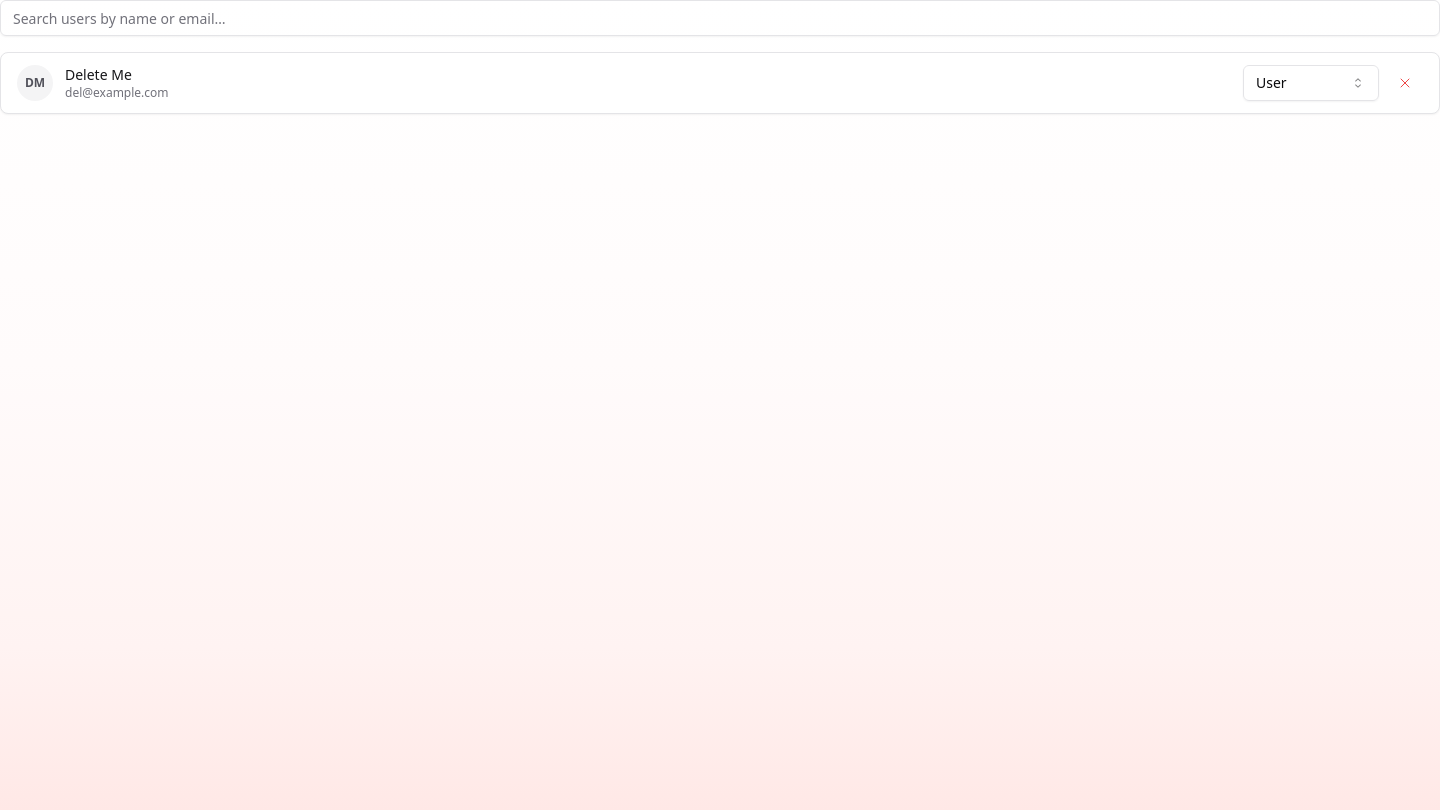
Scenario: UserRoleManager › deletes a user via the dialog and updates the list
Expected: the link "Delete Me" is shown, [65,65,132,84]
Click the button named "remove delete me".
click(1405, 83)  # box [1387,65,1423,101]
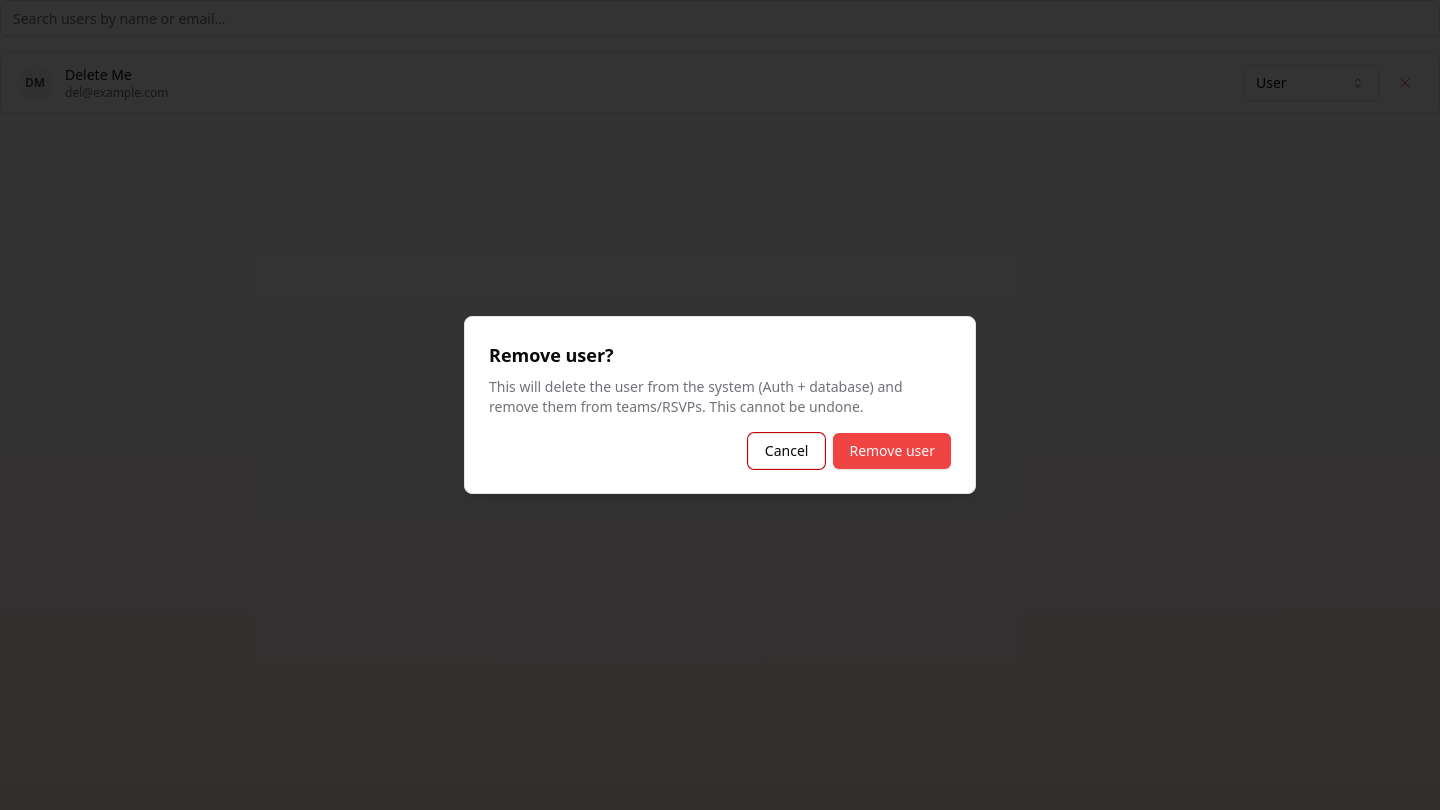
Click the button "Remove user".
click(892, 451)  # box [833,433,951,469]
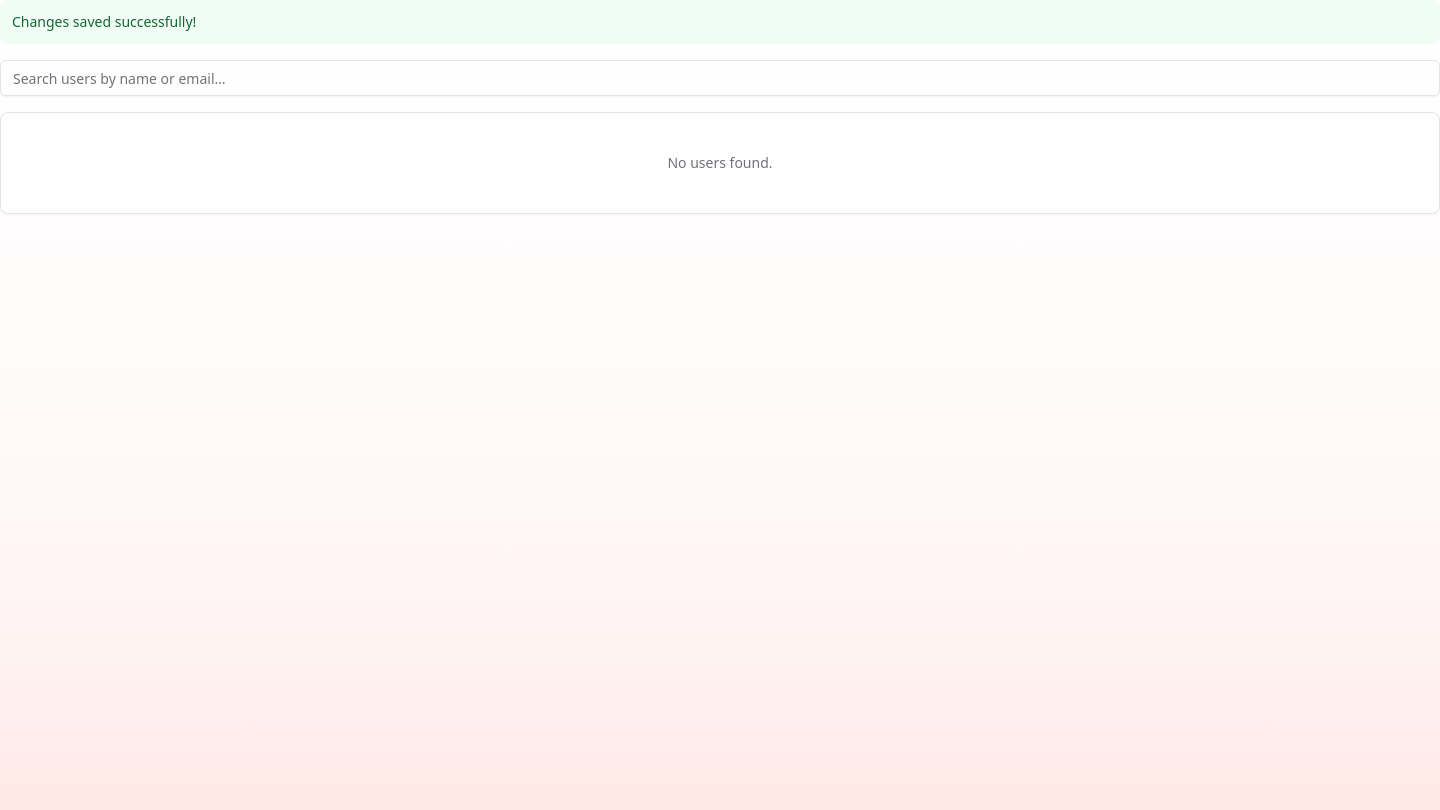
Result: the link "Delete Me" is gone
